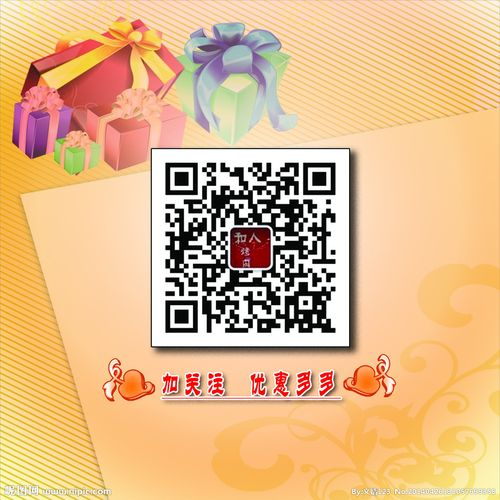QRCode: (159, 157, 348, 340)
